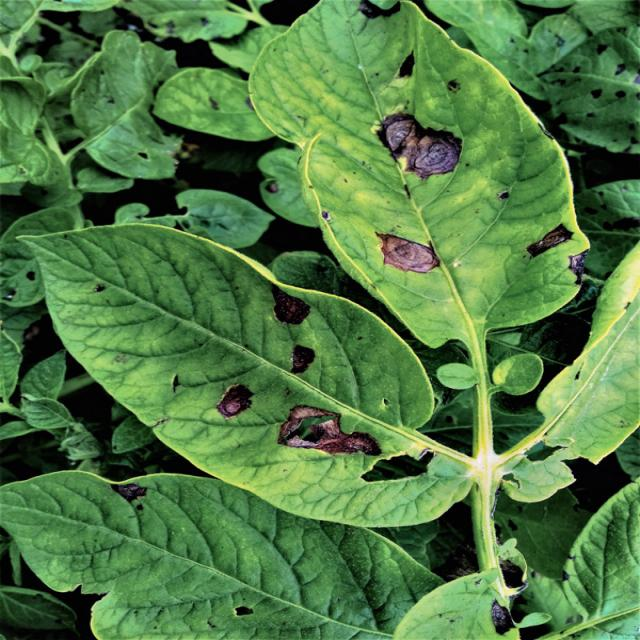earlyblight: (378, 114, 462, 178), (279, 405, 382, 456), (377, 234, 440, 272), (272, 285, 310, 324), (527, 225, 573, 256), (217, 385, 253, 419), (292, 345, 315, 373)
